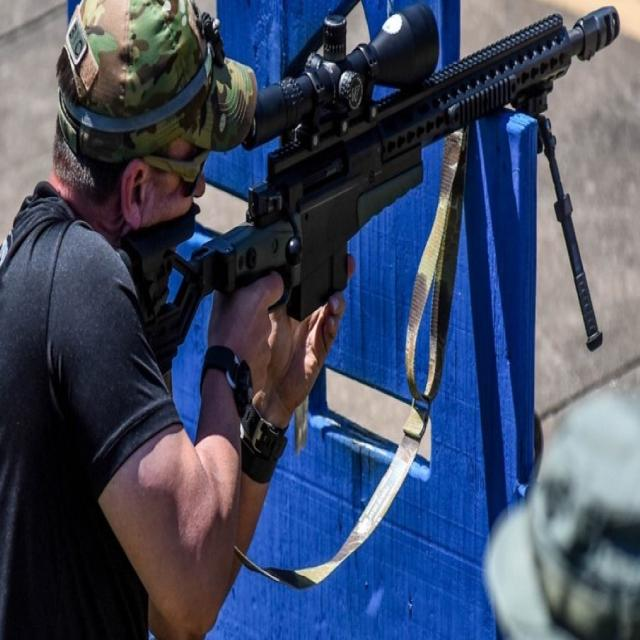Rifle: (122, 4, 617, 374)
